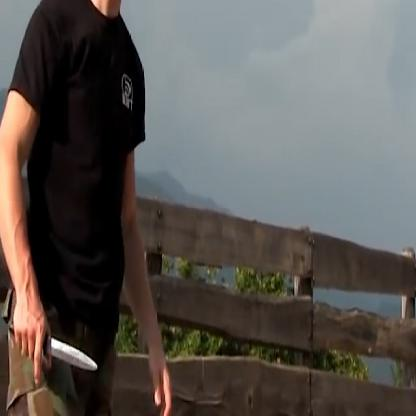knife: (1, 297, 108, 382)
